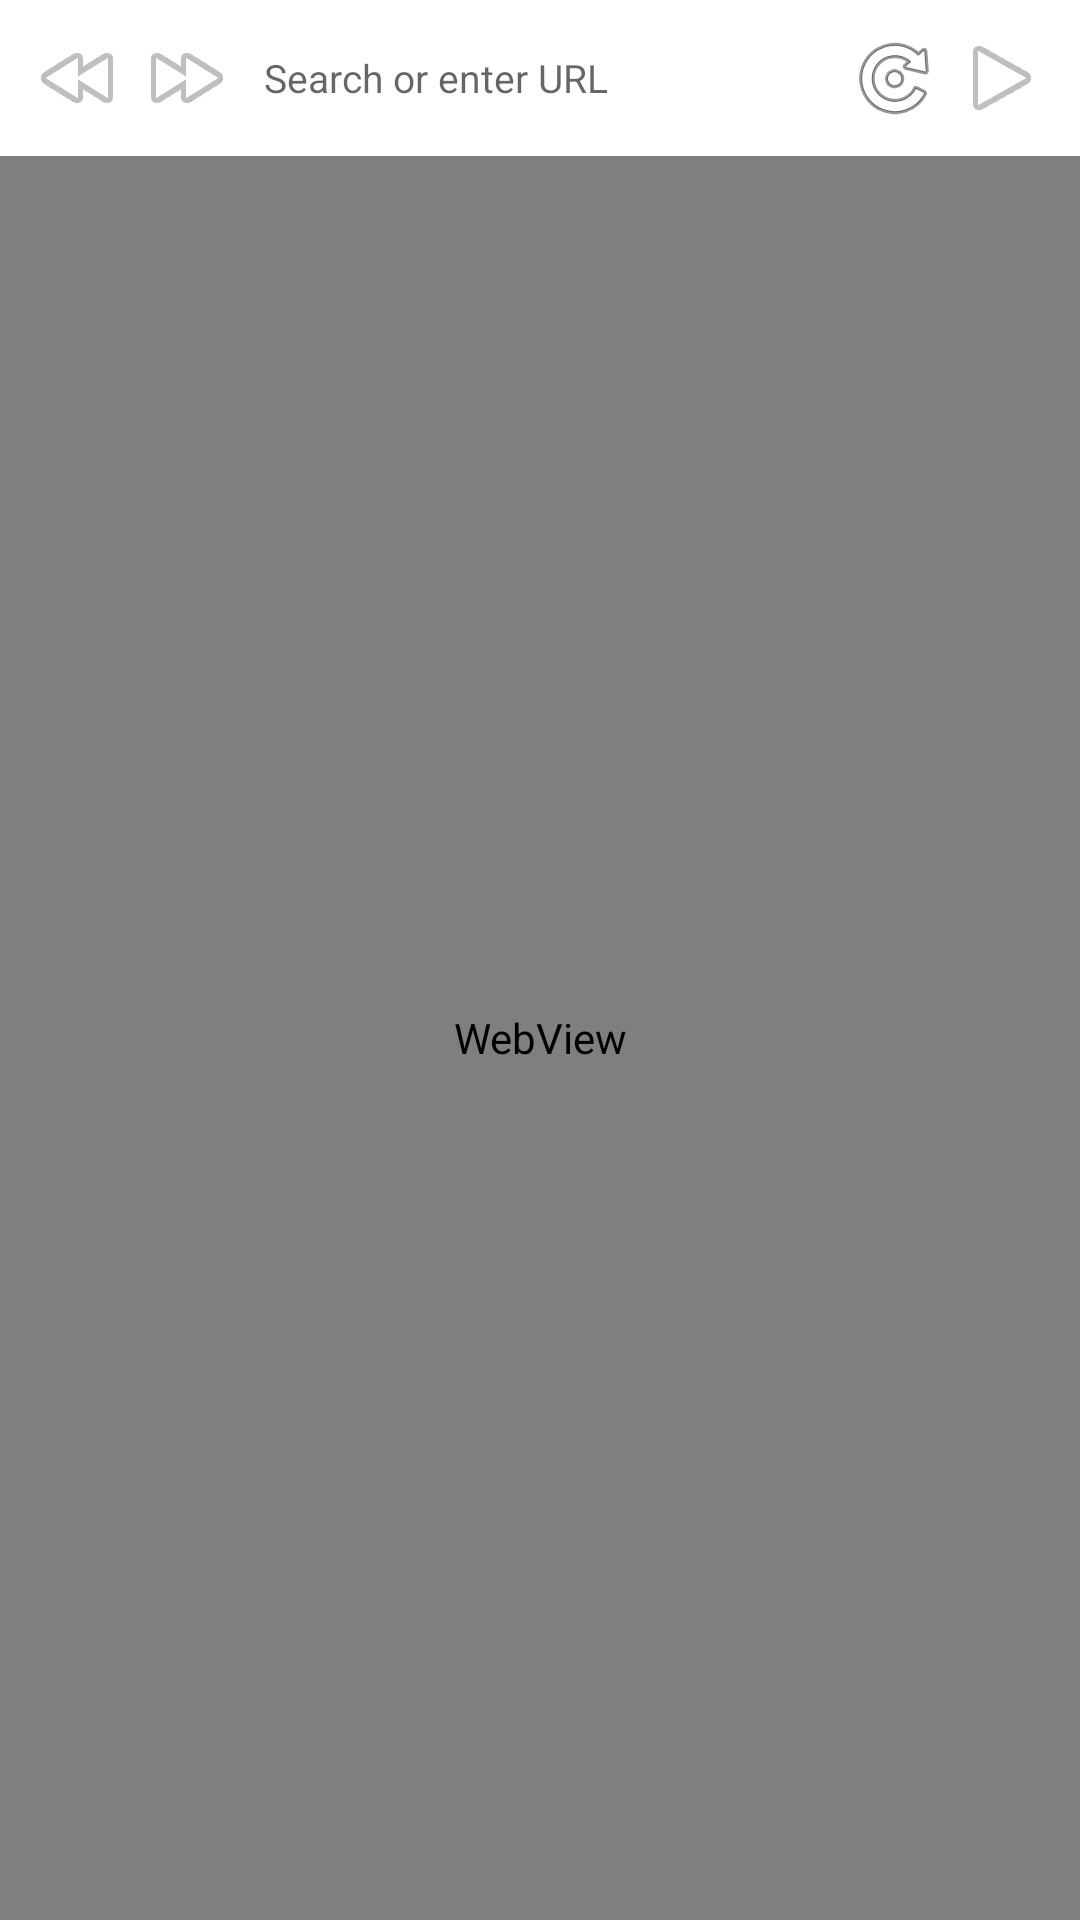

Screen size 1080 x 1920. Icon name, then its center in pixels as (x=x, y=y):
Back: (x=77, y=78)
Forward: (x=187, y=78)
Go: (x=1002, y=78)
Refresh: (x=894, y=78)
